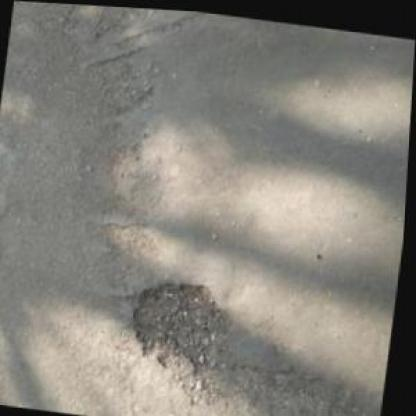pothole: (125, 268, 234, 384)
